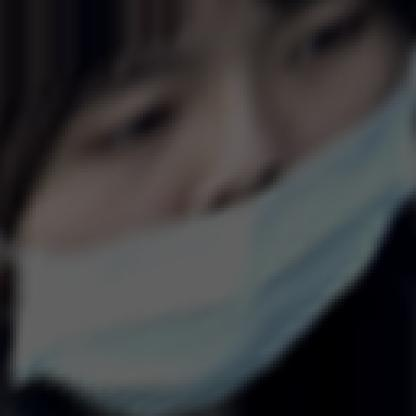mask_weared_incorrect: (28, 10, 416, 416)
